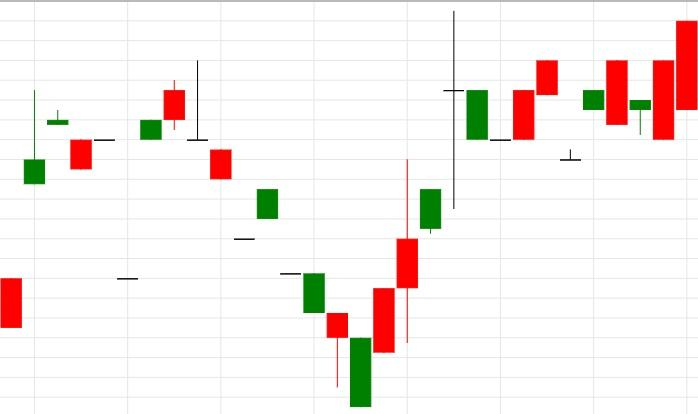hammer_rise: (163, 60, 349, 388)
